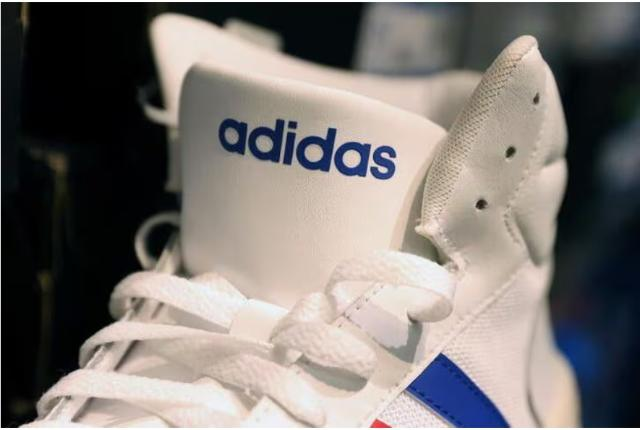Adidas: (214, 109, 400, 188)
